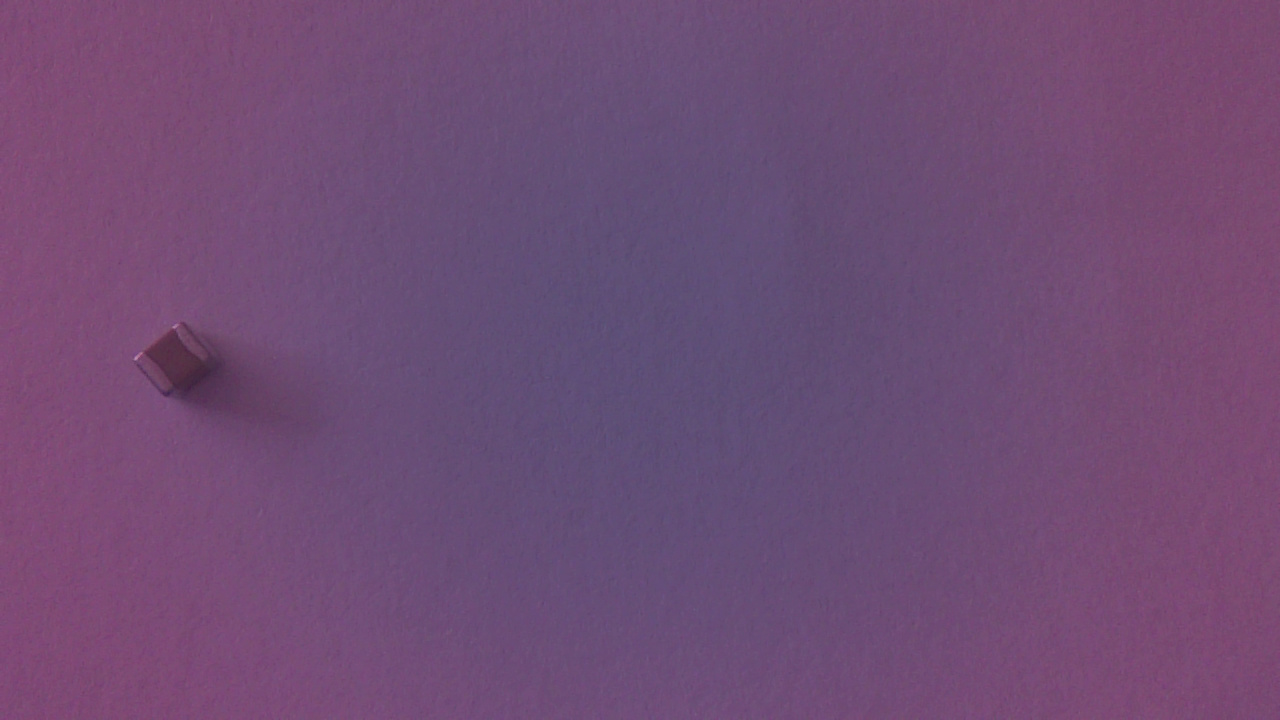Condensator: (130, 321, 238, 407)
